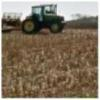tractors: (20, 2, 68, 34)
